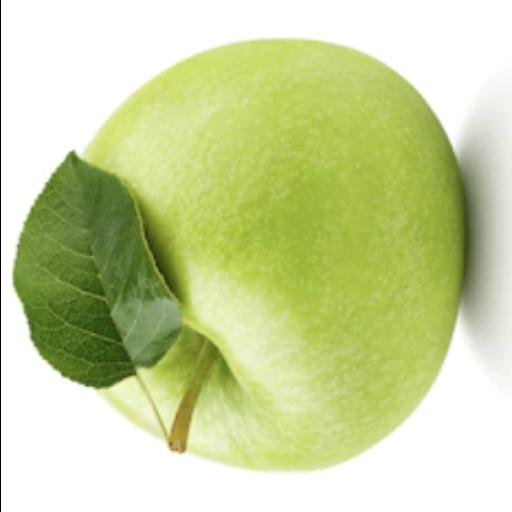apple: (84, 40, 464, 468)
